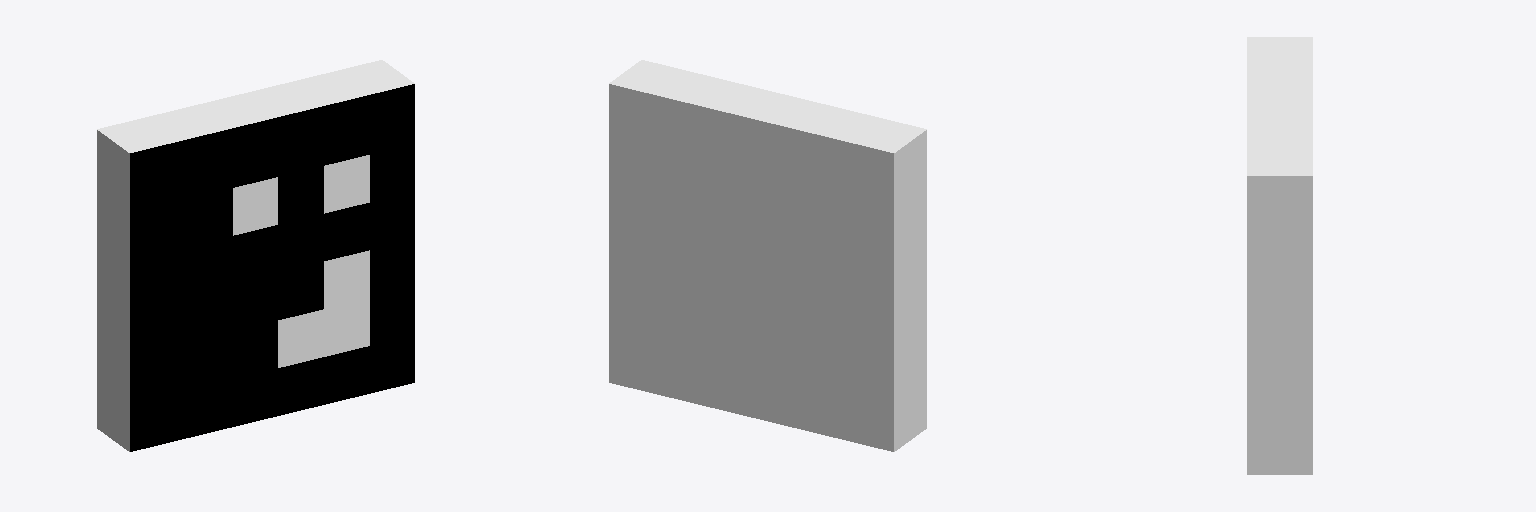
3 views of the same model, side by side, from view 1: azimuth 30°, elevation 25°; view 2: azimuth 150°, elevation 25°; view 3: azimuth 270°, elevation 25° (orthographic).
Parts seen in each view (by area): view 1: Mesh; view 2: Mesh; view 3: Mesh.
Boxes of the visible parts, x1=… form: Mesh: x1=97, y1=60, x2=414, y2=451; Mesh: x1=609, y1=60, x2=926, y2=451; Mesh: x1=1247, y1=37, x2=1312, y2=474.
Bounding box in the file's own units: 0.025 × 0.025 × 0.005.
2 materials, 1 textured.